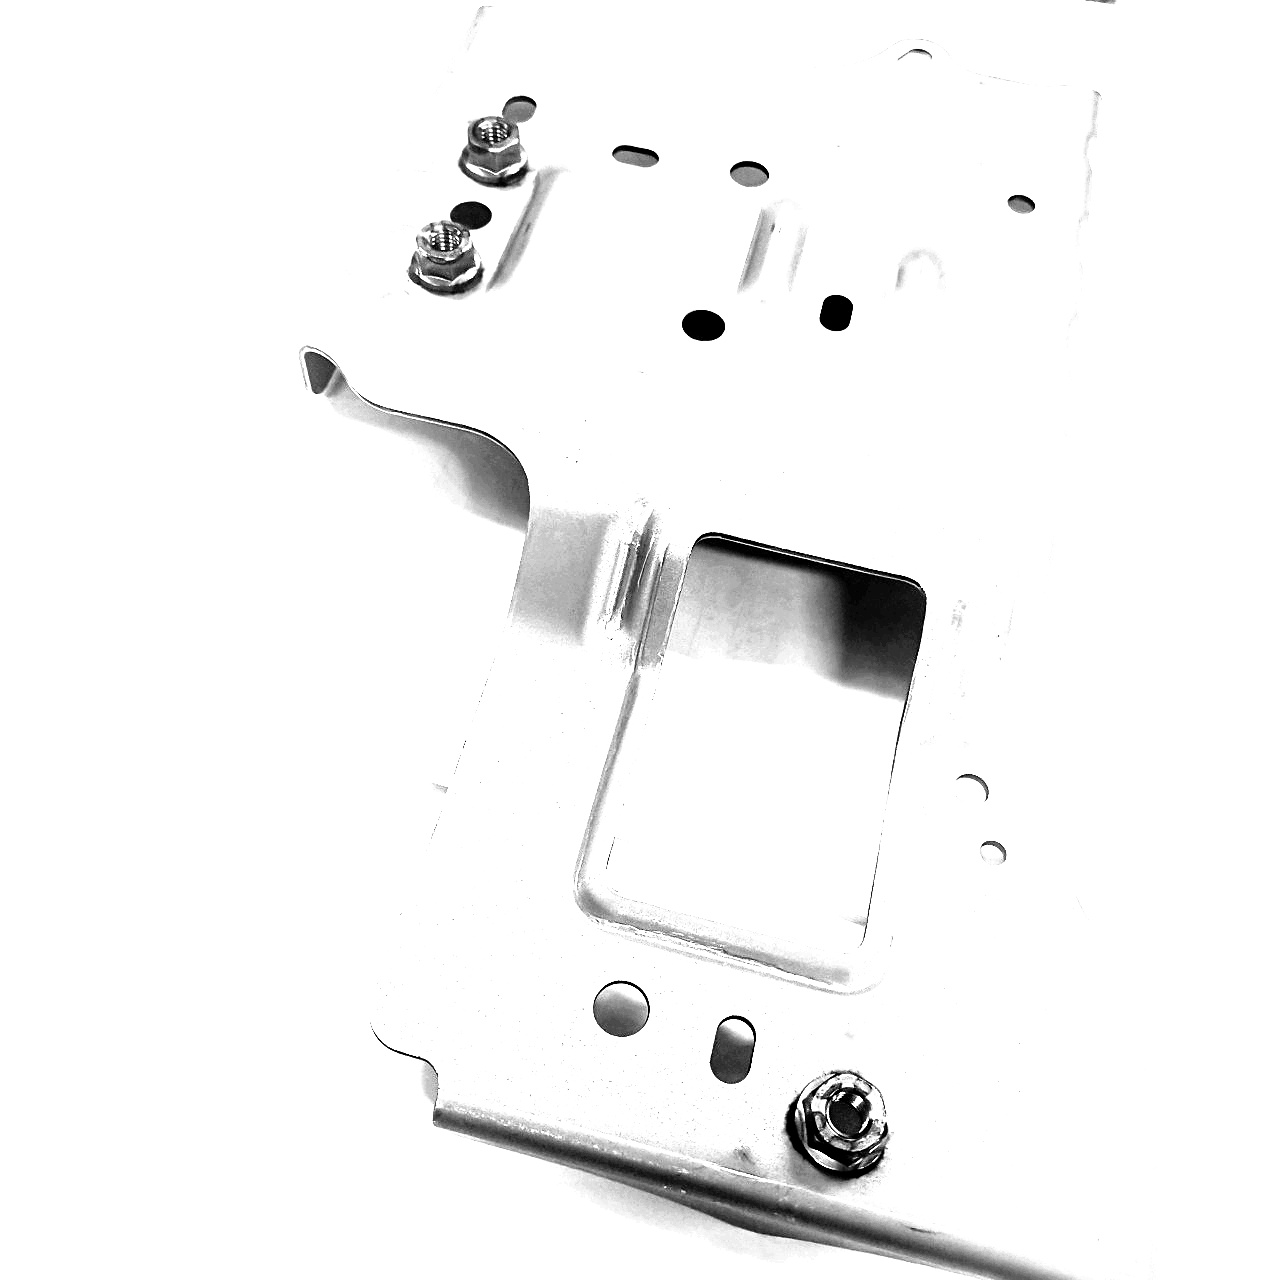dog: (782, 1060, 894, 1186), (404, 216, 486, 304), (452, 113, 536, 192)
